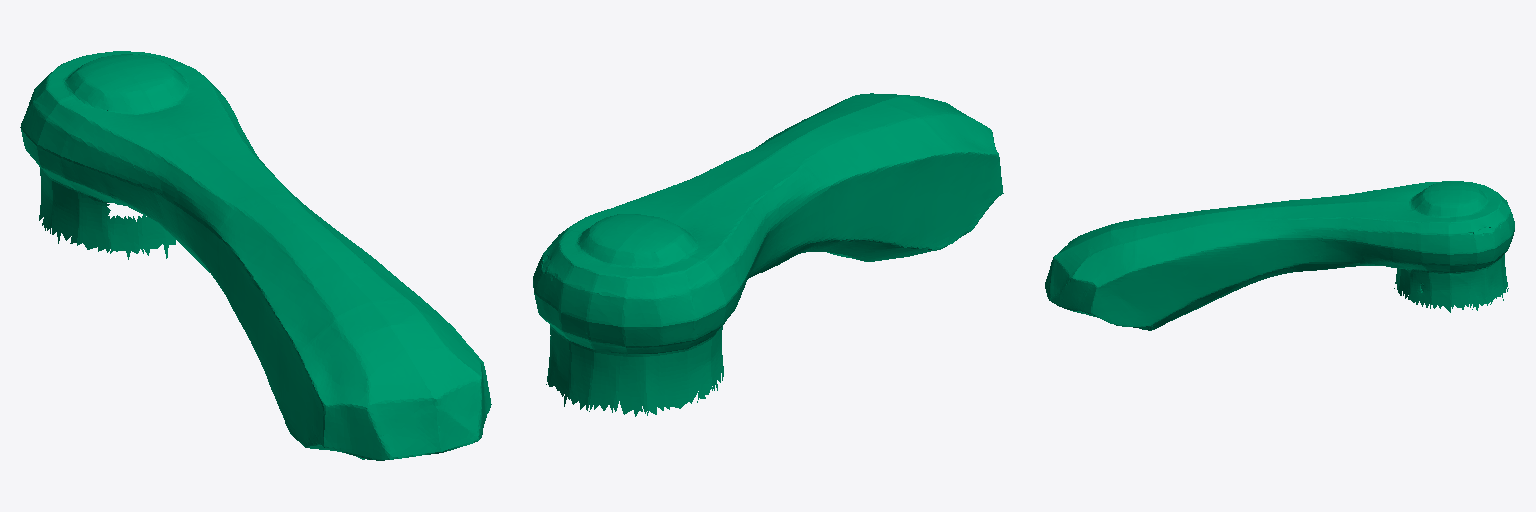
URDF robot description (scene):
<?xml version='1.0' encoding='utf-8'?>
<robot name="scene">
  <link name="l_world">
    <inertial>
      <origin xyz="0 0 0" rpy="0 0 0" />
      <mass value="1.0" />
      <inertia ixx="1.0" ixy="0.0" ixz="0.0" iyy="1.0" iyz="0.0" izz="1.0" />
    </inertial>
  </link>
  <link name="l_1">
    <inertial>
      <origin xyz="0 0 0" rpy="0 0 0" />
      <mass value="1.0" />
      <inertia ixx="1.0" ixy="0.0" ixz="0.0" iyy="1.0" iyz="0.0" izz="1.0" />
    </inertial>
    <visual>
      <geometry>
        <mesh filename="./1/1.obj" scale="1 1 1" />
      </geometry>
      <origin xyz="0 0 0" rpy="0 0 0" />
    </visual>
  </link>
  <joint name="joint_fixed_world1" type="fixed">
    <parent link="l_world" />
    <child link="l_1" />
    <origin xyz="0 0 0" rpy="0 0 0" />
  </joint>
  <link name="l_0">
    <inertial>
      <origin xyz="0 0 0" rpy="0 0 0" />
      <mass value="1.0" />
      <inertia ixx="1.0" ixy="0.0" ixz="0.0" iyy="1.0" iyz="0.0" izz="1.0" />
    </inertial>
    <visual>
      <geometry>
        <mesh filename="./0/0.obj" scale="1 1 1" />
      </geometry>
      <origin xyz="0 0 0" rpy="0 0 0" />
    </visual>
  </link>
  <link name="abstract_1_0">
    <inertial>
      <origin xyz="0 0 0" rpy="0 0 0" />
      <mass value="1.0" />
      <inertia ixx="1.0" ixy="0.0" ixz="0.0" iyy="1.0" iyz="0.0" izz="1.0" />
    </inertial>
  </link>
  <joint name="joint_fixed_abstract_1_0" type="fixed">
    <parent link="abstract_1_0" />
    <child link="l_0" />
    <origin xyz="-0.0015625000000000222 -0.03968749999999999 0.5" rpy="0 0 0" />
  </joint>
  <joint name="joint_revolute_l_1_abstract_1_0" type="revolute">
    <parent link="l_1" />
    <child link="abstract_1_0" />
    <origin xyz="0.0015625000000000222 0.03968749999999999 -0.5" rpy="0 0 0" />
    <axis xyz="0.0 0.0 1.0" />
    <limit lower="0.0" upper="0.9948376736367678" effort="2000.0" velocity="2.0" />
  </joint>
</robot>

--- Render facts (derived) ---
The picture shows the robot from 3 angles, left to right: view 1: azimuth 30°, elevation 25°; view 2: azimuth 150°, elevation 25°; view 3: azimuth 270°, elevation 25°; orthographic projection.
Robot: scene — 4 links, 3 joints (1 revolute, 2 fixed); root link l_world; default pose: all joints at 0.
Visible links, largest first — view 1: l_0; view 2: l_0; view 3: l_0.
Link boxes in pixels (x1,y1,x2,y2): l_0: (20, 51, 491, 460); l_0: (533, 93, 1003, 416); l_0: (1045, 181, 1514, 330).
Size in the robot's own frame: 0.1738 by 0.625 by 0.1874 metres.
Meshes: 2 distinct files referenced, 1 mesh visuals loaded (1 OBJ); not drawn: 1 (reference not matched to a file when rendering).
